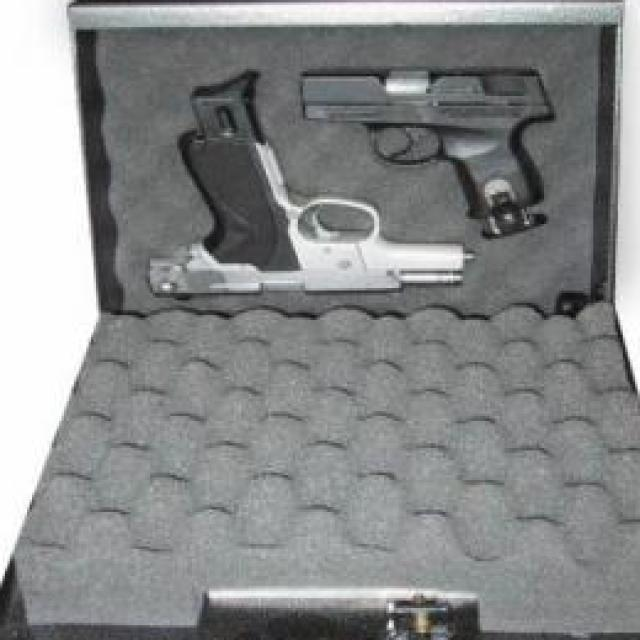pistol: (150, 133, 476, 300), (296, 69, 578, 217)
